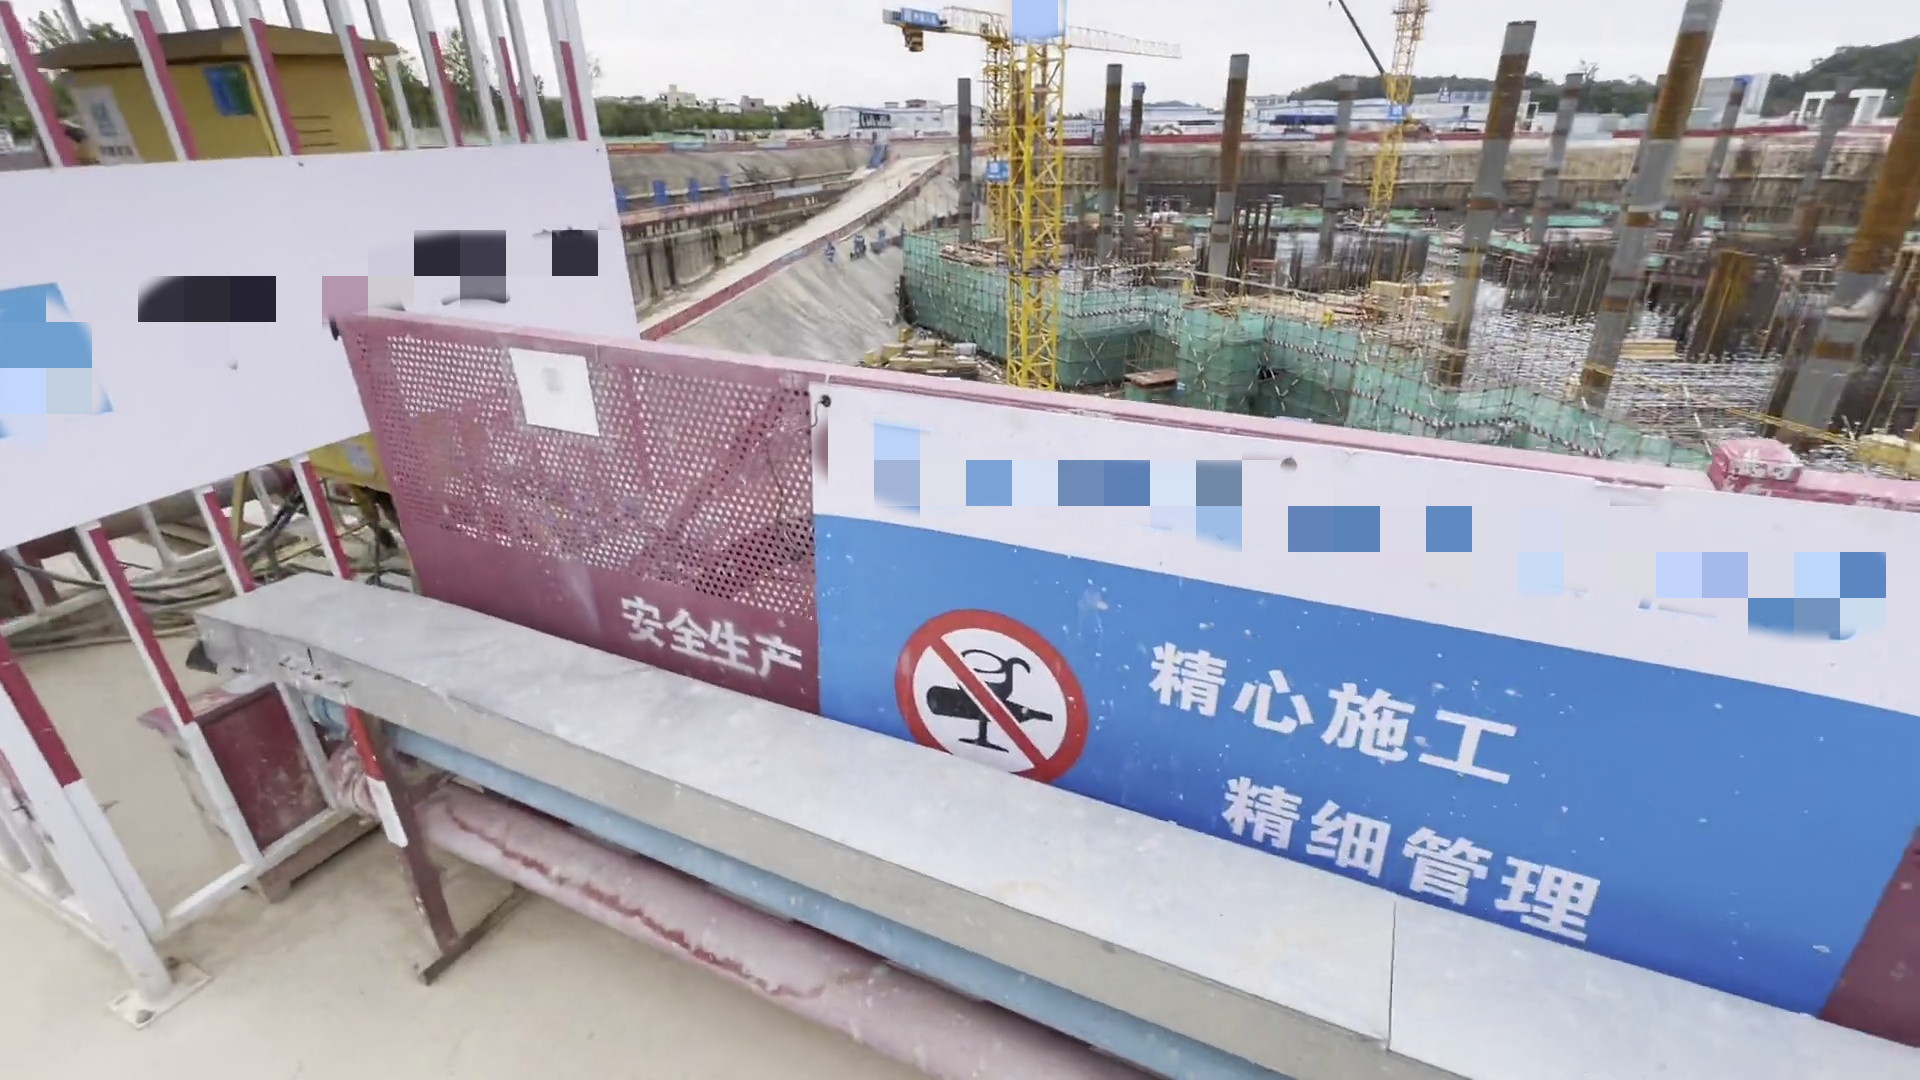board: (885, 338, 943, 371)
ebox: (29, 26, 456, 508)
fence: (323, 313, 1920, 1054)
scaffold: (953, 342, 988, 357)
slogan: (781, 368, 1920, 1038), (1, 108, 684, 572), (890, 1, 957, 47), (972, 162, 1027, 195)
